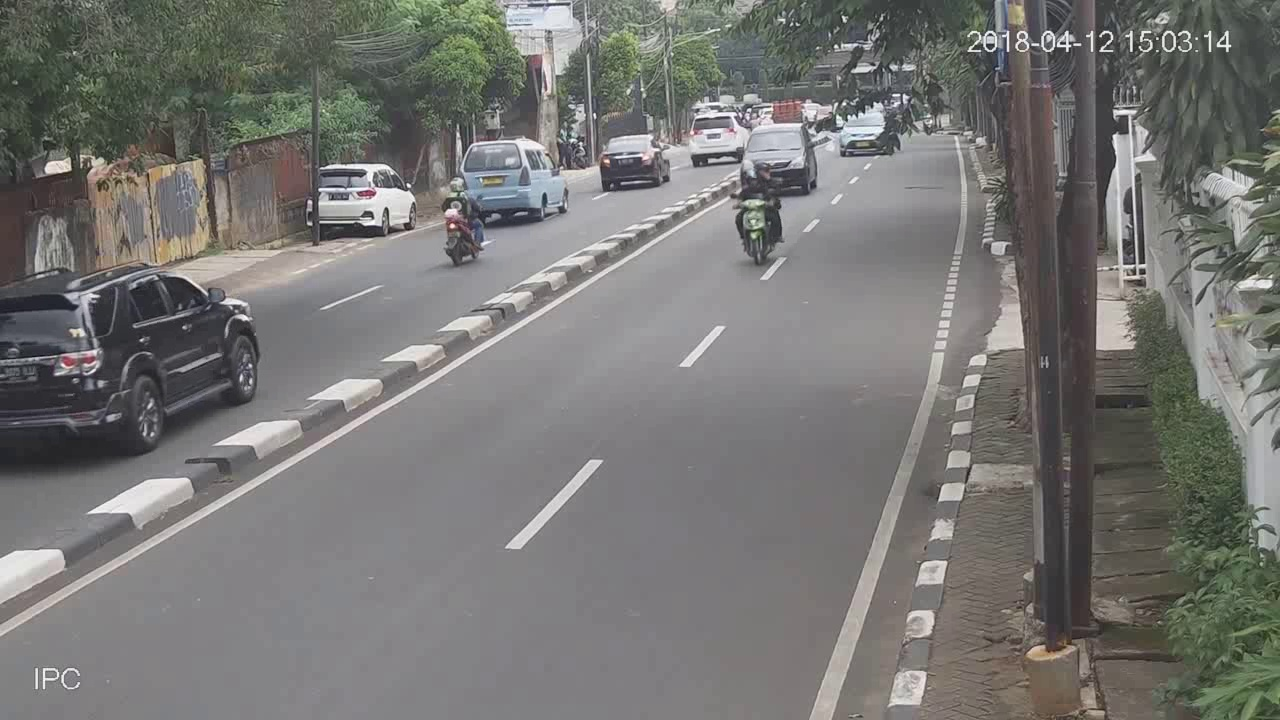car: (1, 262, 260, 455), (461, 136, 577, 219), (306, 159, 421, 241), (599, 131, 672, 193)
motorcycle: (728, 166, 786, 268), (438, 176, 488, 268)
